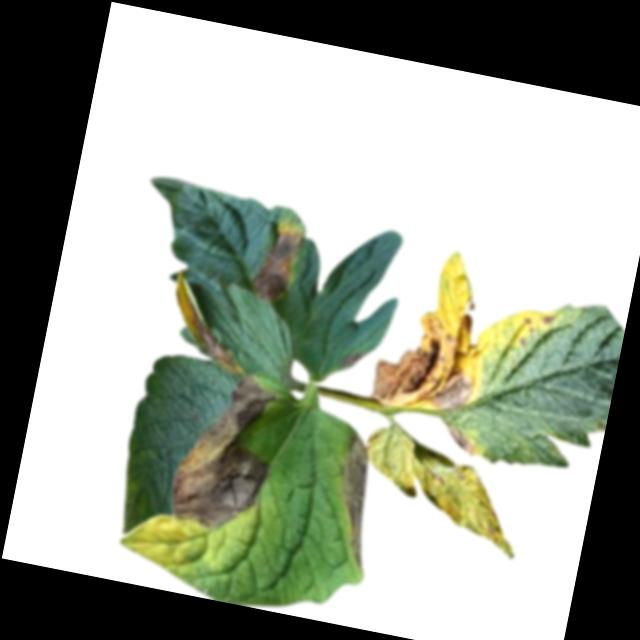Early_blight: (166, 362, 289, 538), (369, 293, 490, 420), (157, 269, 259, 371), (325, 433, 391, 567), (251, 215, 310, 305), (440, 422, 482, 459), (340, 346, 368, 373), (540, 309, 559, 331)
